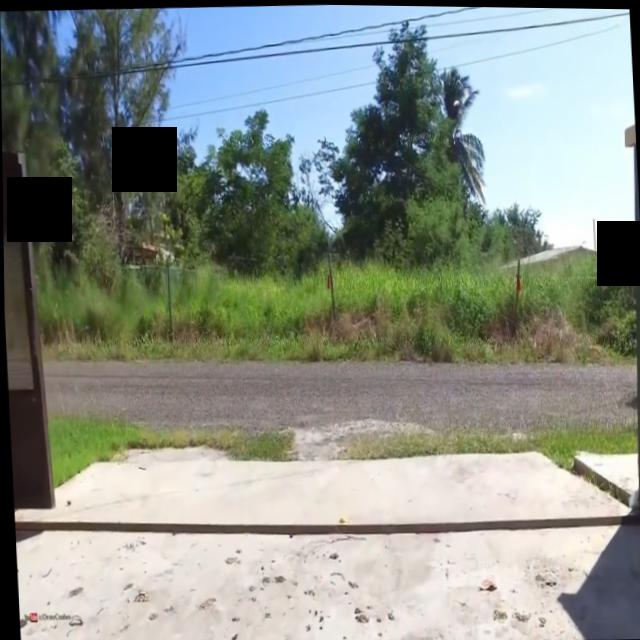Building: (2, 141, 44, 530)
Pole: (507, 255, 524, 313), (322, 240, 336, 310), (163, 260, 177, 322)
